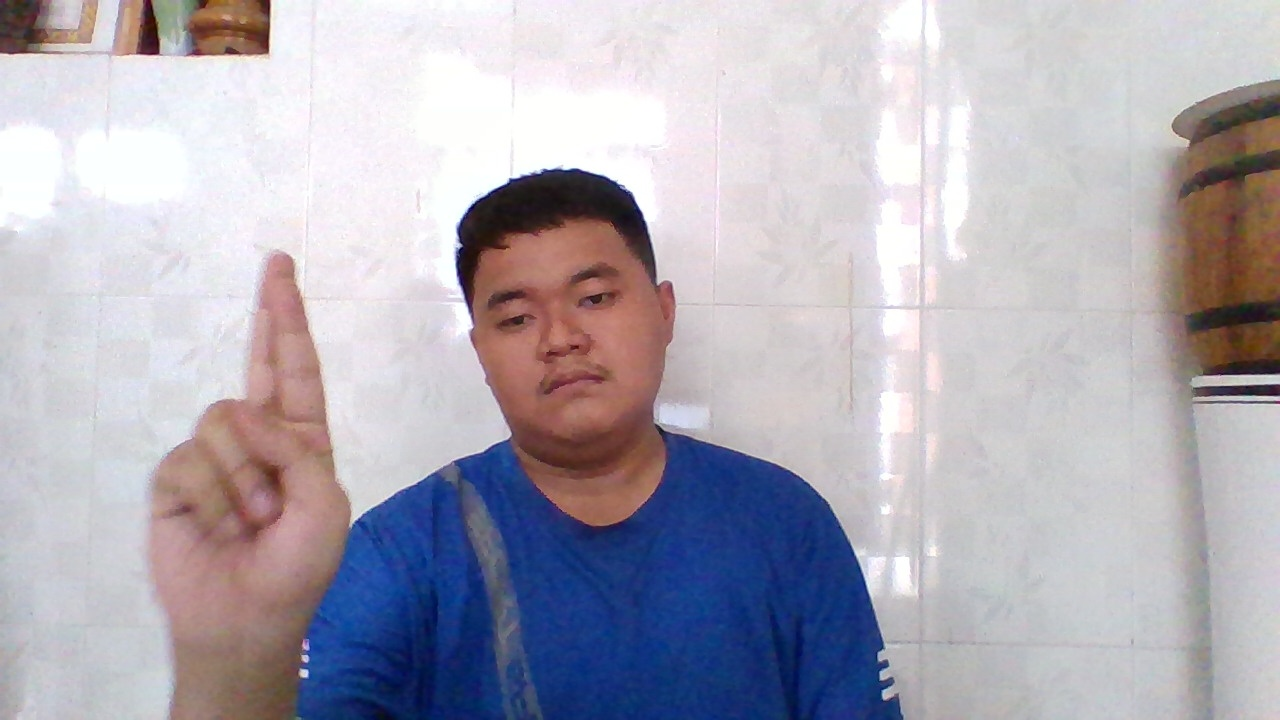R: (158, 252, 346, 631)
